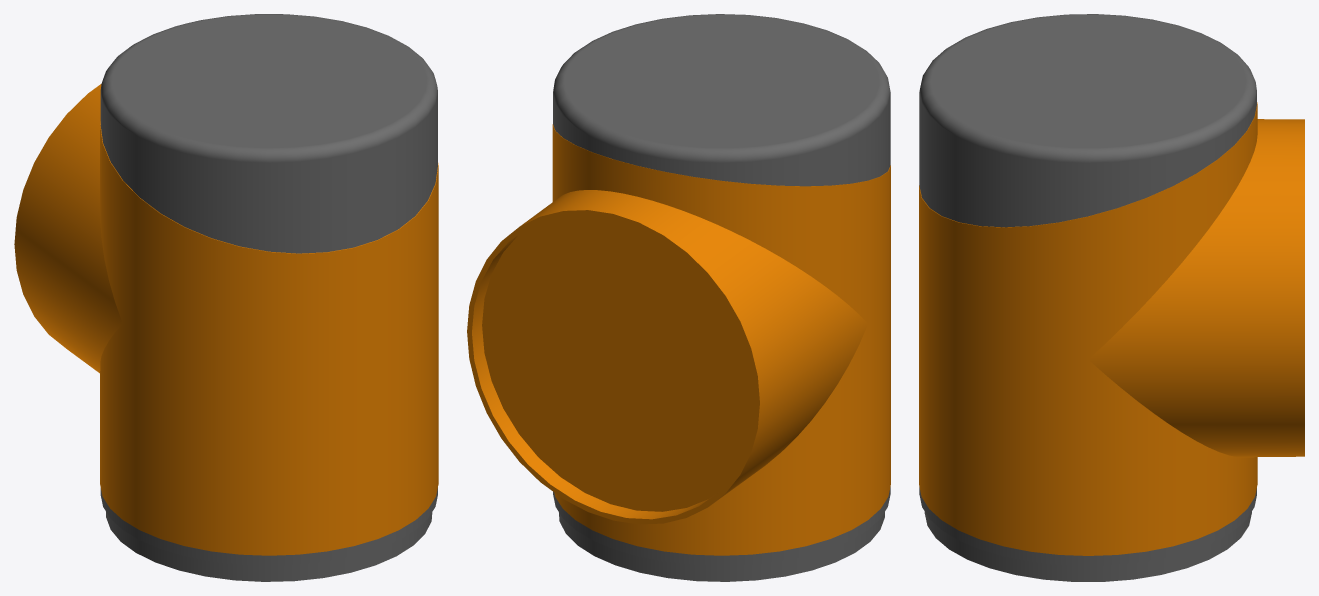
3 views of the same model, side by side, from view 1: azimuth 30°, elevation 25°; view 2: azimuth 150°, elevation 25°; view 3: azimuth 270°, elevation 25° (orthographic).
Visible parts, largest first — view 1: NONE; view 2: NONE; view 3: NONE.
Part boxes in pixels (x1,y1,x2,y2): NONE: (14,14,438,581); NONE: (467,14,890,581); NONE: (919,14,1304,581).
Bounding box in the file's own units: 0.15 × 0.171 × 0.211.
